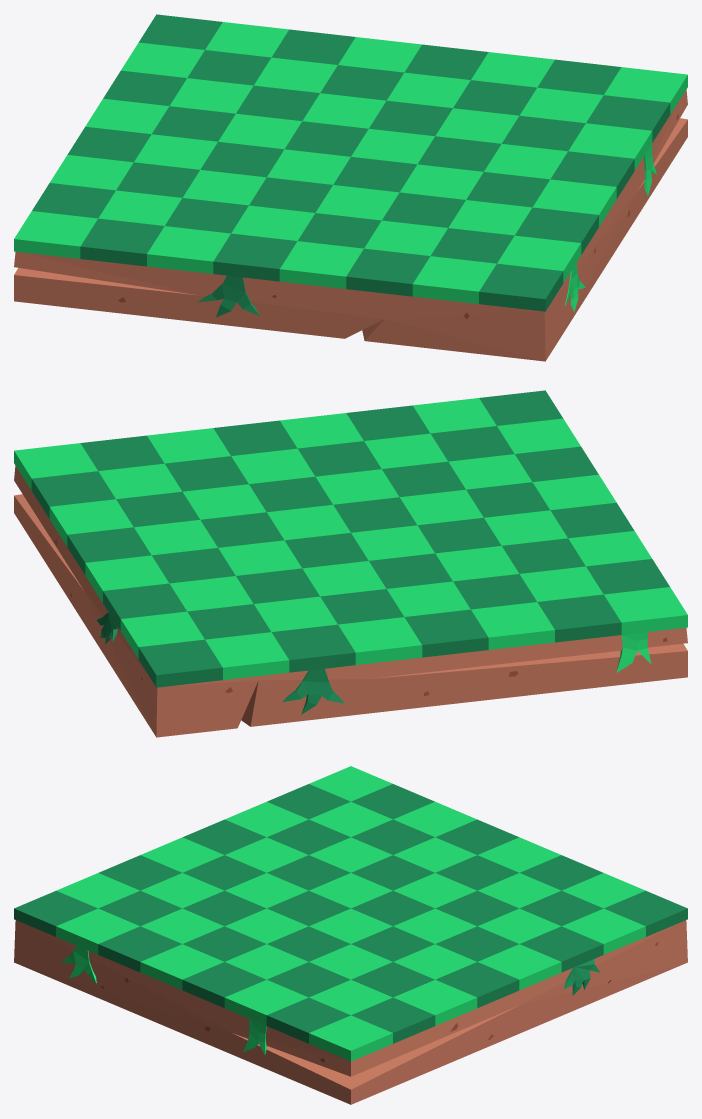
The model's file is Ground2.fbx.
3 renders of one model, top to bottom at view 1: azimuth 30°, elevation 25°; view 2: azimuth 150°, elevation 25°; view 3: azimuth 270°, elevation 25°, orthographic. The views are drawn at different scales.
Visible parts, largest first — view 1: GroundGrass8; view 2: GroundGrass8; view 3: GroundGrass8.
Boxes of the visible parts, x1=… form: GroundGrass8: x1=14, y1=14, x2=687, y2=361; GroundGrass8: x1=14, y1=390, x2=687, y2=737; GroundGrass8: x1=14, y1=766, x2=687, y2=1104.
Bounding box in the file's own units: 1131 × 100 × 1131.
1 material, 1 textured.
